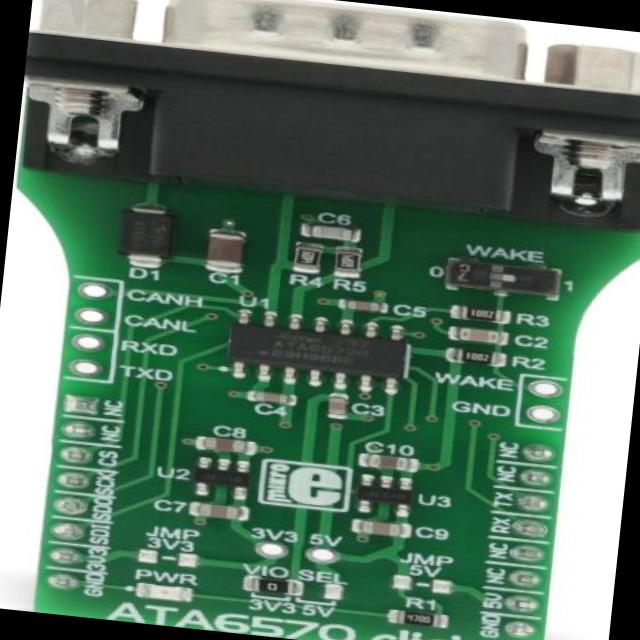IC: (226, 312, 410, 388), (194, 458, 252, 496), (356, 476, 416, 512)
LED: (139, 581, 191, 602)
capacitor: (204, 230, 242, 272), (304, 224, 360, 242), (452, 327, 506, 345), (358, 517, 402, 539), (195, 502, 240, 520), (367, 454, 408, 470), (340, 299, 386, 313), (205, 437, 247, 452), (326, 396, 348, 418), (254, 392, 292, 404)
connector: (14, 0, 640, 233)
diode: (113, 205, 175, 268)
resistor: (452, 348, 504, 368), (249, 574, 300, 594), (396, 610, 442, 628), (462, 304, 506, 322), (292, 246, 322, 271), (335, 248, 358, 276)
